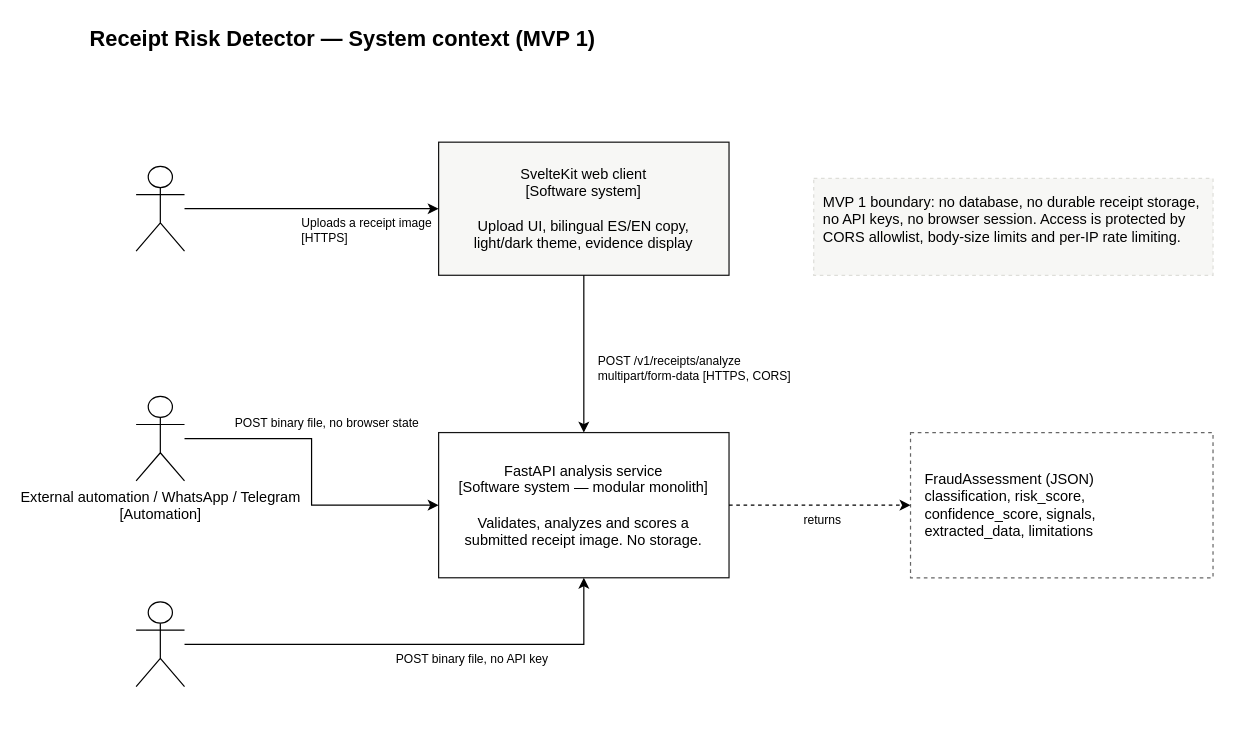
This 1234x750 diagram has some shape labels left out. Each missing label, with the centre of its shape:
"Beneficiary operator [Person]" belongs at pixel 160 208.
"Generic HTTP client / bot [Third-party server]" belongs at pixel 160 644.
